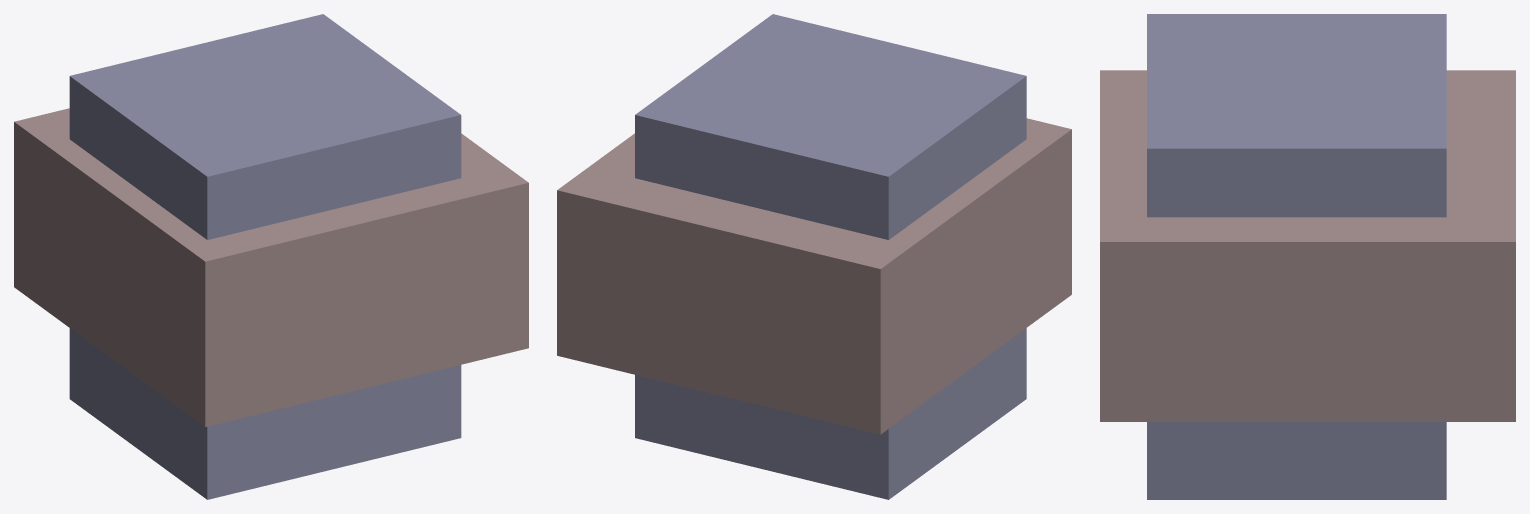
The model's file is ExportedFBXFile.fbx.
3 views of the same model, side by side, from view 1: azimuth 30°, elevation 25°; view 2: azimuth 150°, elevation 25°; view 3: azimuth 270°, elevation 25° (orthographic). The views are drawn at different scales.
Parts seen in each view (by area): view 1: pCube2, pCube1; view 2: pCube2, pCube1; view 3: pCube2, pCube1.
Boxes of the visible parts, x1,y1,x2,y2 form: pCube2: [14, 108, 528, 426]; pCube1: [69, 14, 461, 499]; pCube2: [557, 118, 1071, 434]; pCube1: [635, 14, 1026, 499]; pCube2: [1100, 70, 1515, 421]; pCube1: [1147, 14, 1446, 499].
Bounding box in the file's own units: 7.26 × 6.93 × 7.43.
